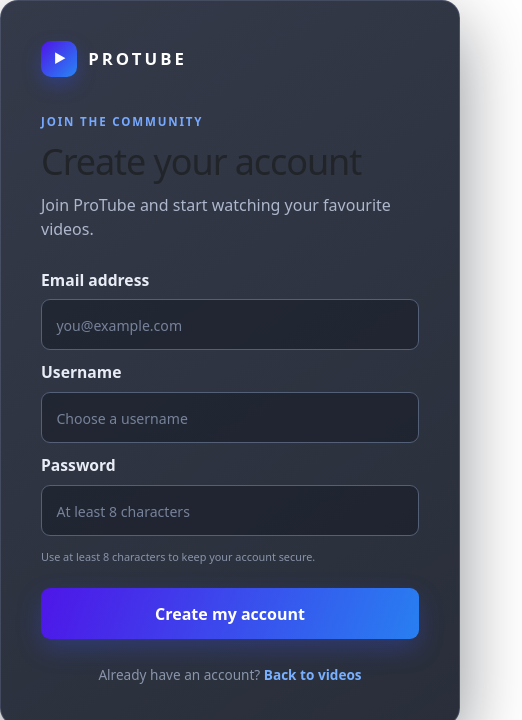
Scenario: RegistrationForm › shows duplicate field errors returned by the API
The image size is (522, 720).
Type "user@example.com" into the field labelled "Email address".
click(230, 325); type("user@example.com")  # box [41,299,419,350]
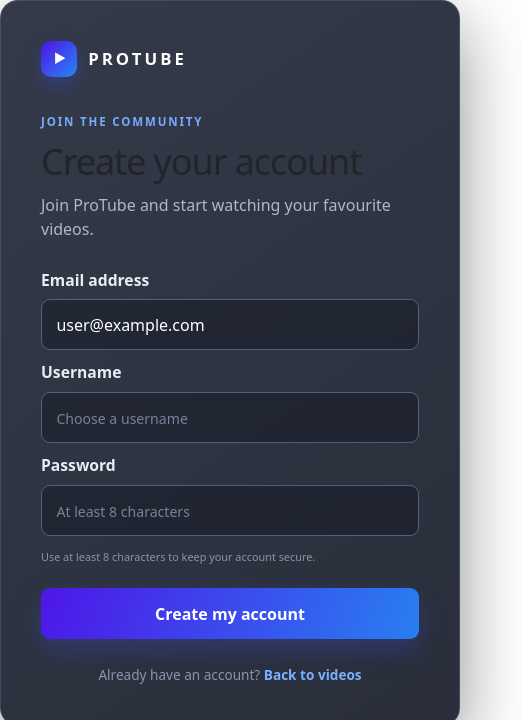
Type "player_1" into the field labelled "Username".
click(230, 418); type("player_1")  # box [41,392,419,443]
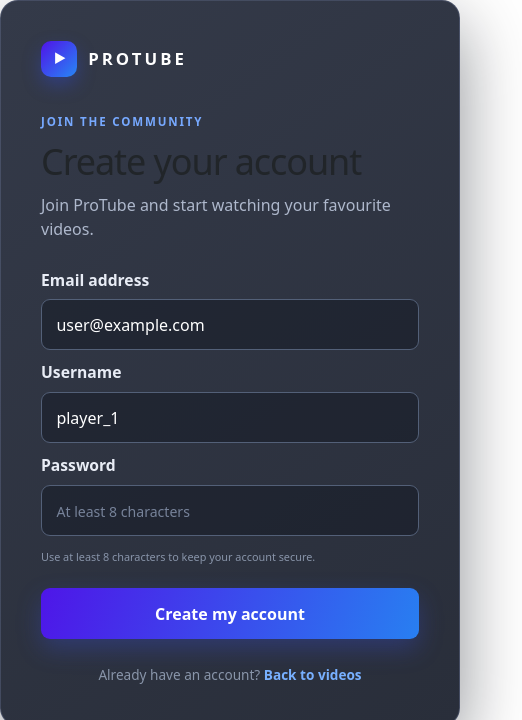
Type "secret123" into the password field labelled "Password".
click(230, 510); type("secret123")  # box [41,485,419,536]
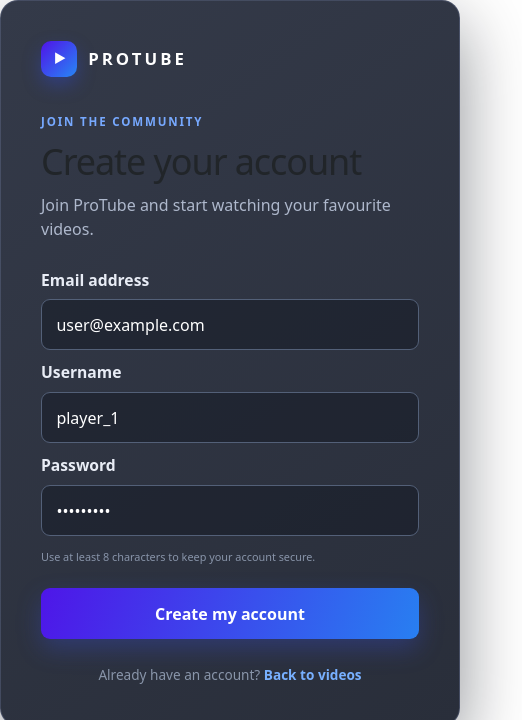
Click the button "Create my account".
click(230, 614)  # box [41,588,419,640]
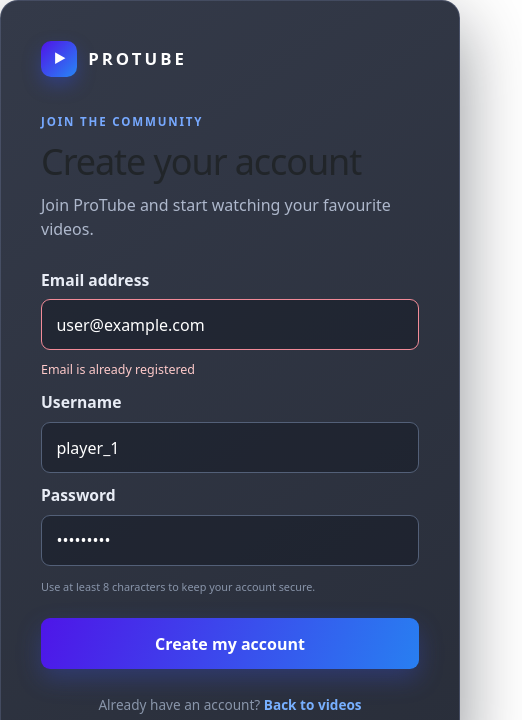
Check: the text "Email is already registered" is shown, box [41,362,195,378]
